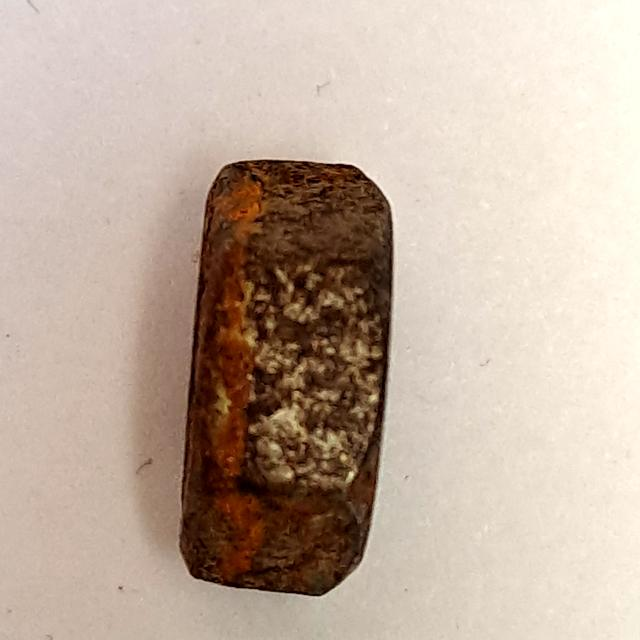Side_Rust: (158, 147, 413, 609)
